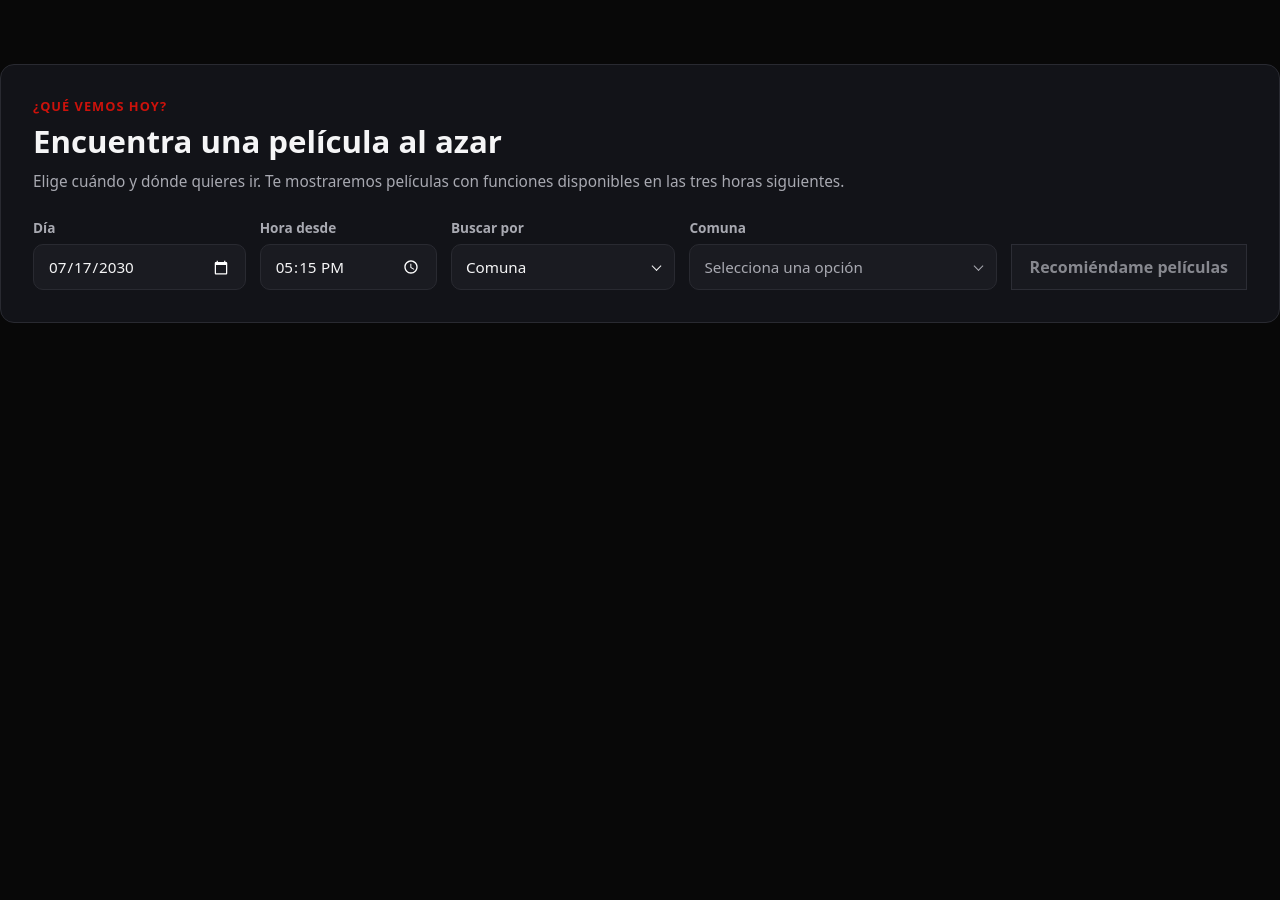
Test: RecomendadorPeliculas › consulta los cines de la comuna y muestra una opción por película
The width and height of the screenshot is (1280, 900).
Expected: the button "Recomiéndame películas" is disabled, [1011,244,1247,290]
Click the button with aria-label "seleccionar comuna: selecciona una opción" at (843, 267), box [689,244,997,290]
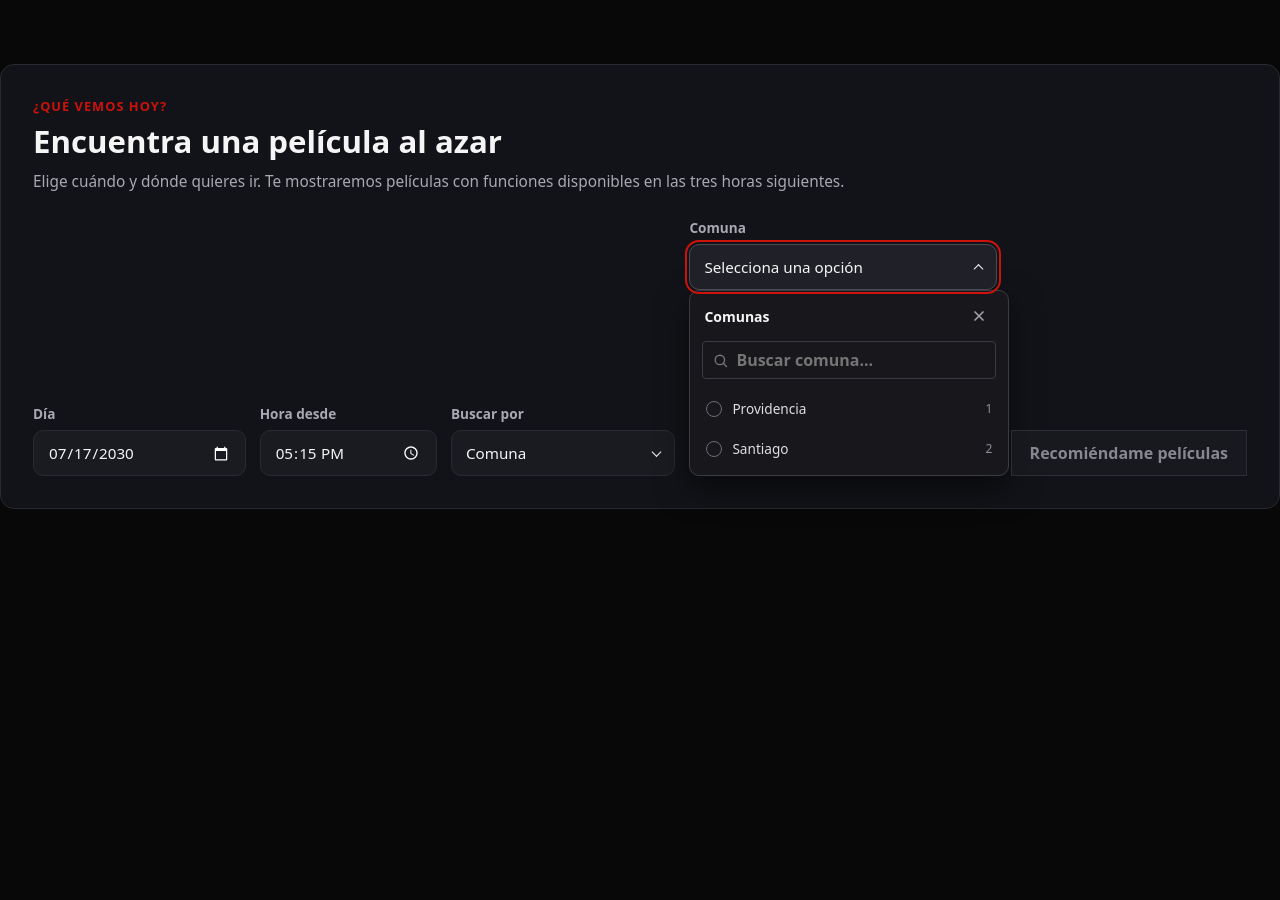
Click the option "Santiago 2" at (760, 449), box [696,429,1002,469]
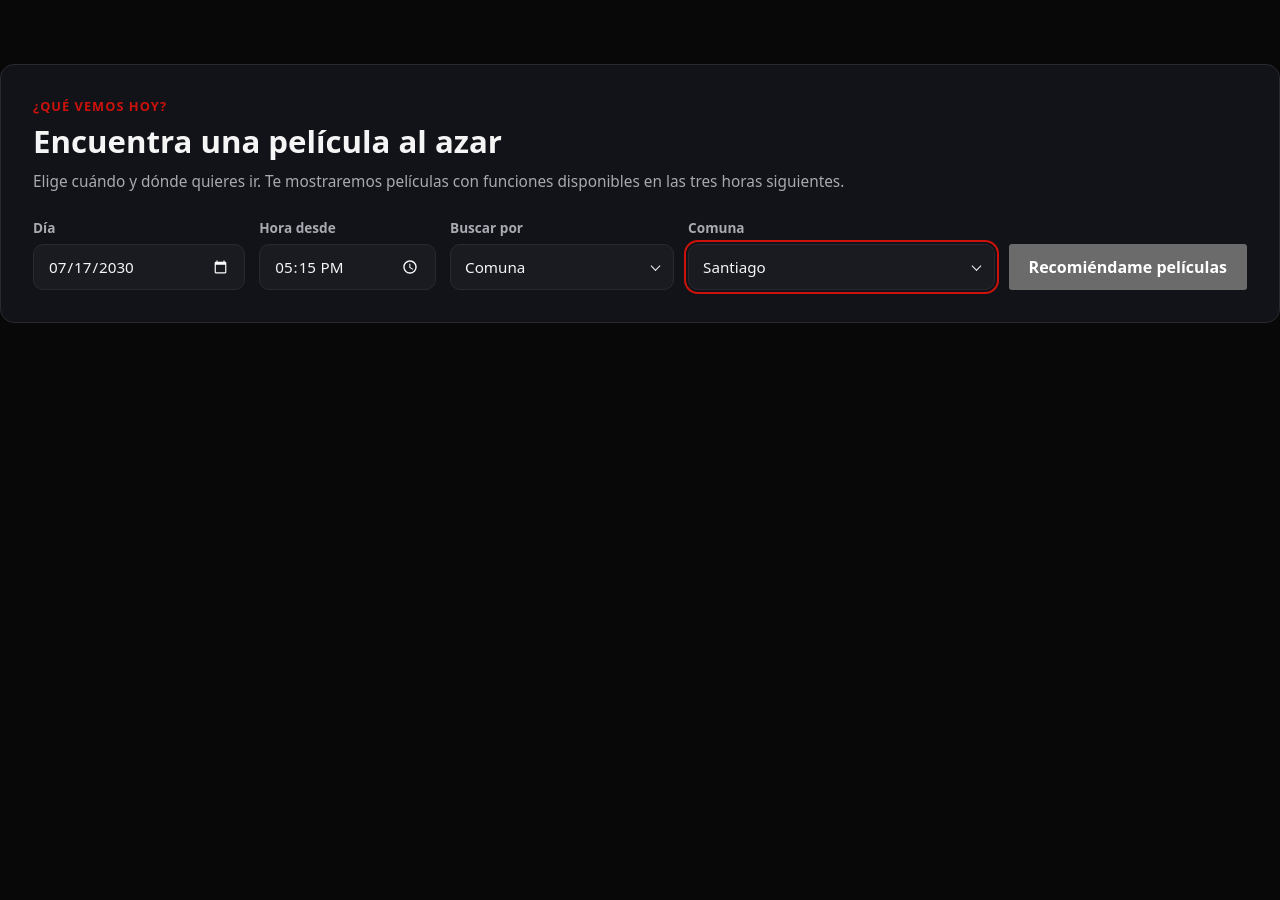
Click the button "Recomiéndame películas" at (1128, 267), box [1009,244,1247,290]
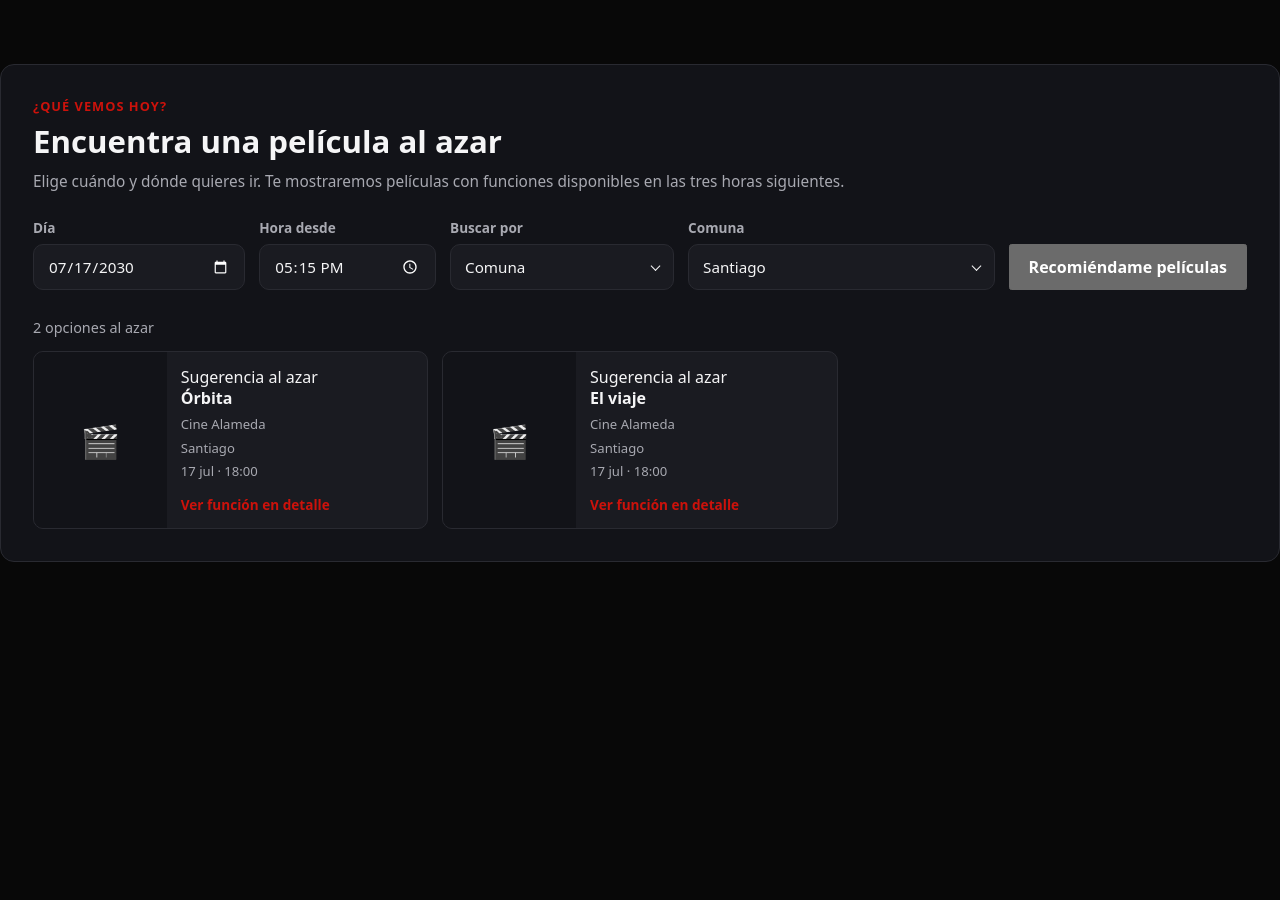
Expected: the text "2 opciones al azar" is shown, [33,318,154,337]
Expected: the number of links named "ver detalles de" is 2, [34,352,330,528]; [443,352,739,528]
